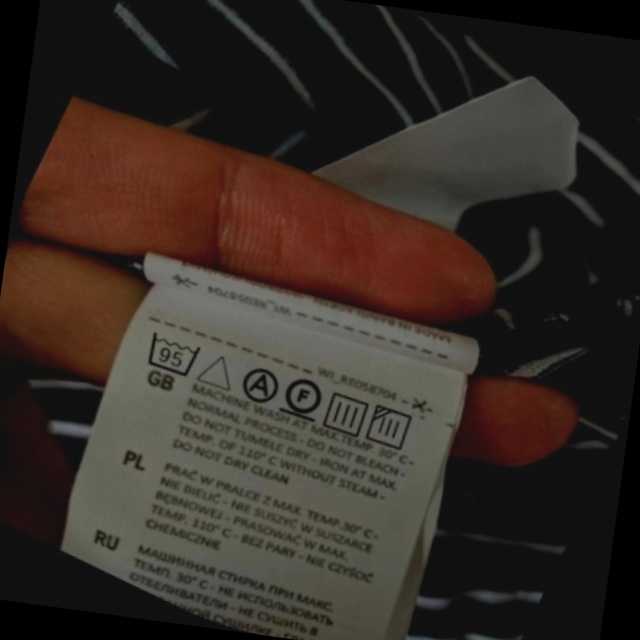95C: (130, 315, 216, 393)
bleach: (186, 336, 250, 403)
drip_dry: (309, 377, 383, 450)
drip_dry_in_shade: (353, 391, 430, 467)
dry_clean: (227, 353, 292, 417)
dry_clean_petrol_only: (268, 360, 339, 434)
